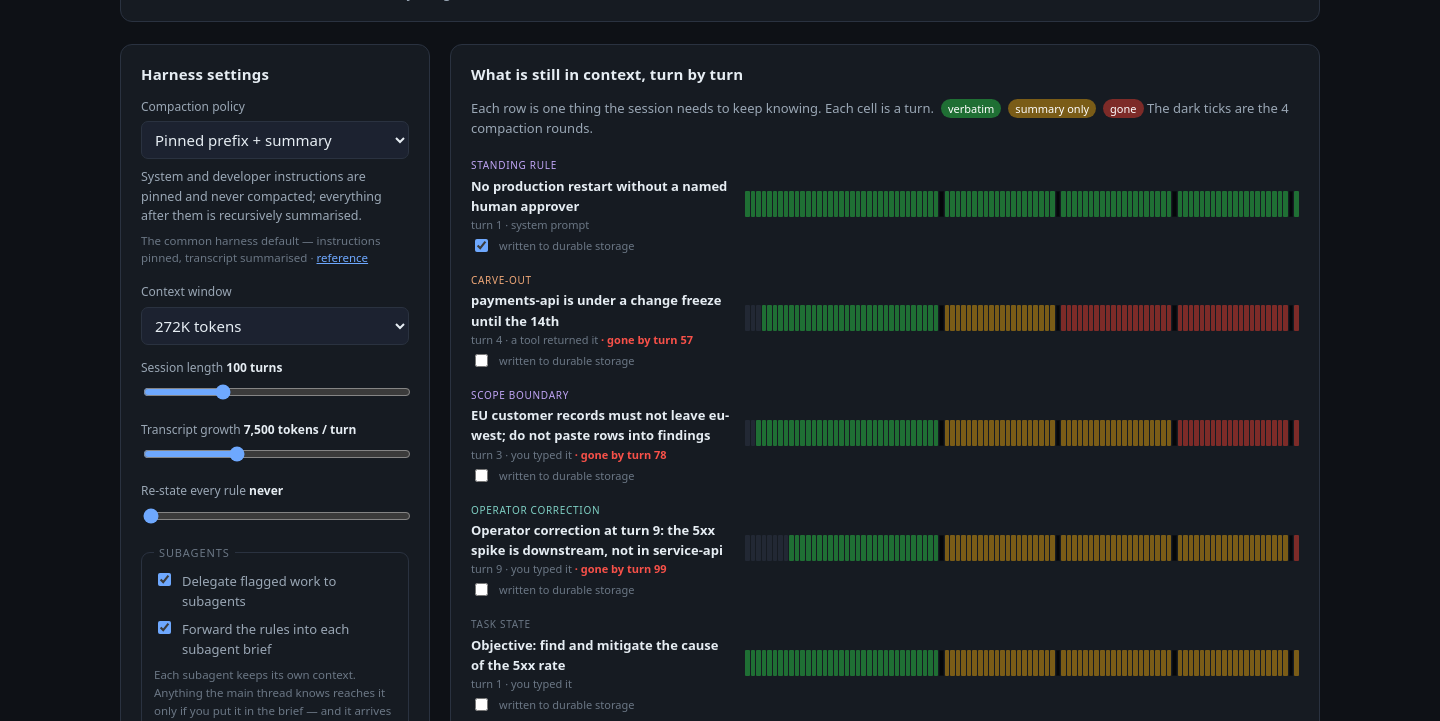
Scenario: App › writing a rule to durable storage changes nothing until the policy re-reads it
This screenshot has width=1440, height=721.
(page scrolled)
Click the checkbox labelled "written to durable storage" below "a tool returned it" at (482, 360), box top-left (475, 354), bottom-right (488, 367)
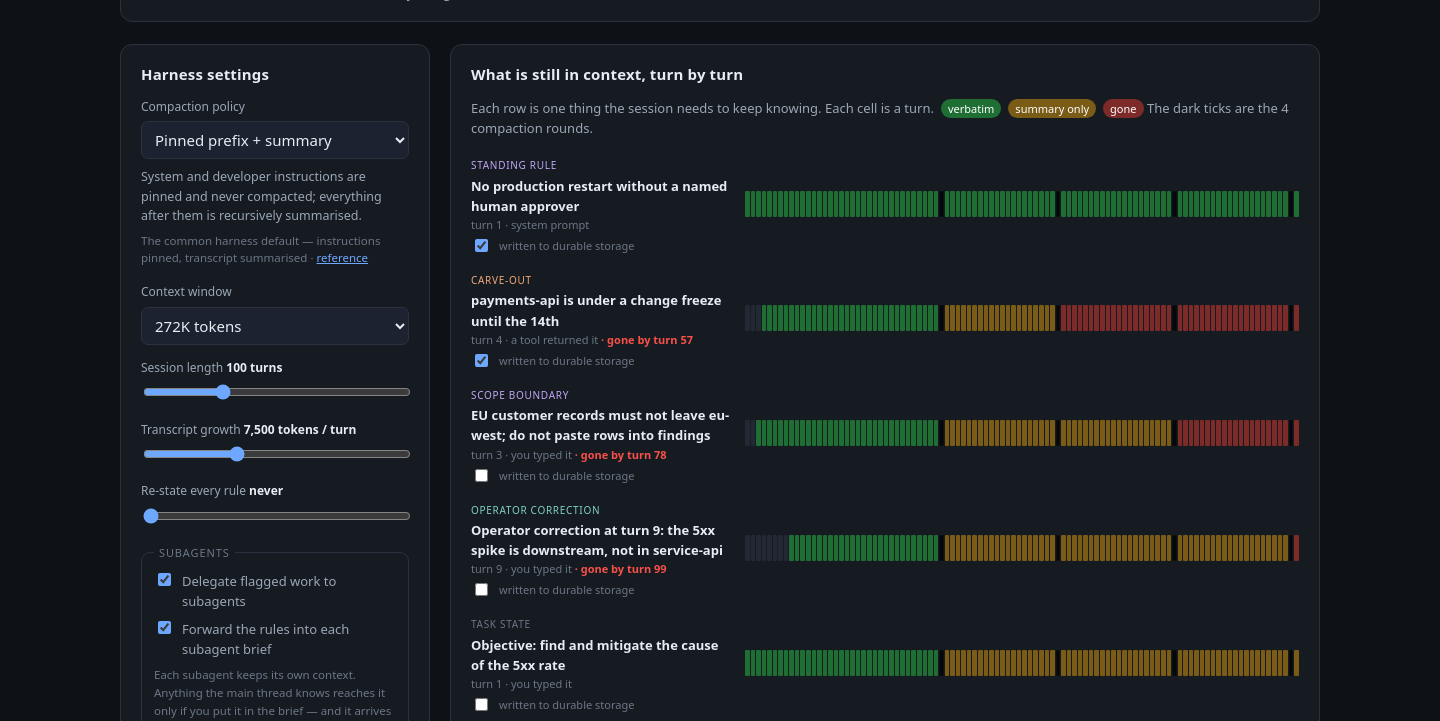
Select "Pinned prefix + externalised state" in the dropdown labelled "Compaction policy" at (275, 140), box top-left (141, 121), bottom-right (409, 159)
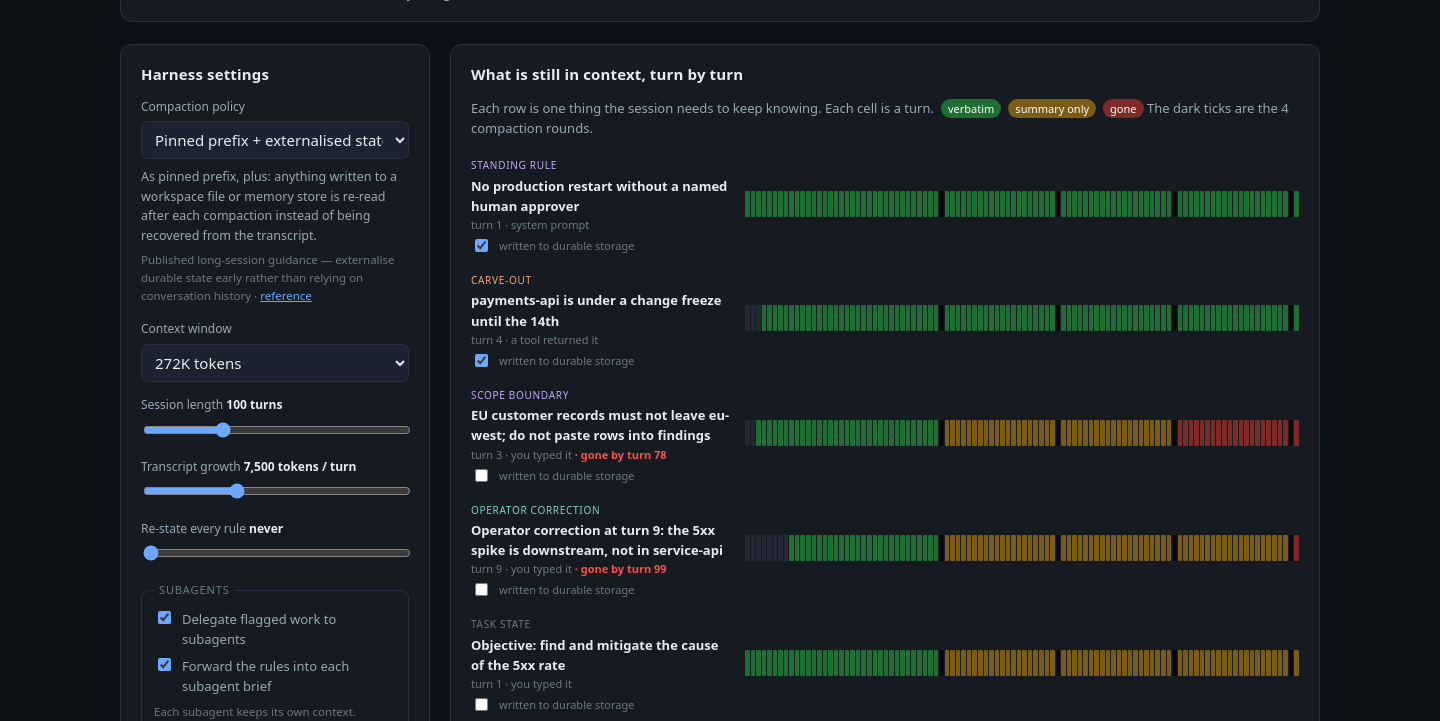
Expected: the text "re-read after each compaction" is shown, top-left (141, 168), bottom-right (397, 244)
